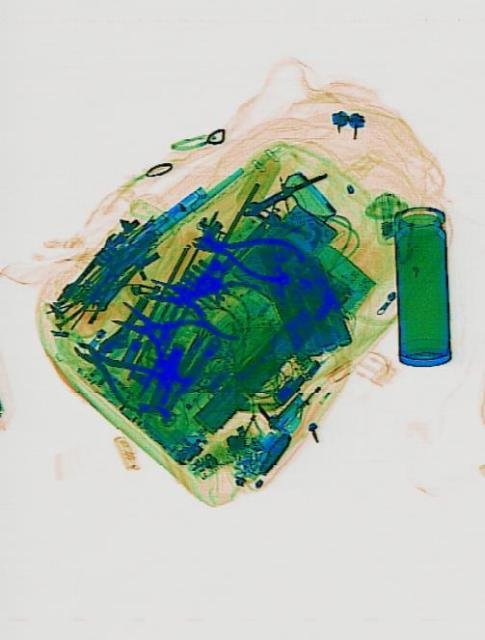Pliers: (101, 280, 228, 390), (62, 319, 170, 425), (140, 254, 259, 346), (186, 215, 303, 289)
